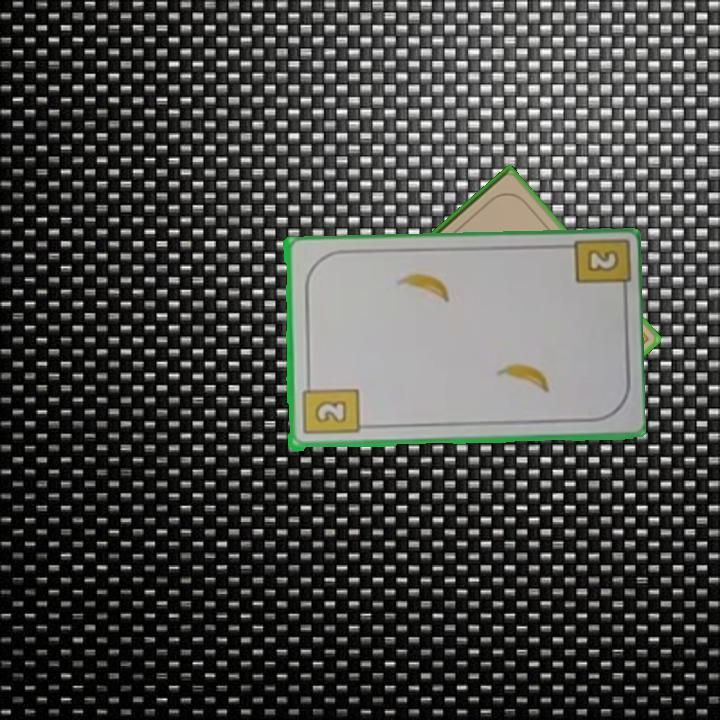2b: (299, 377, 361, 438), (582, 246, 621, 275)
